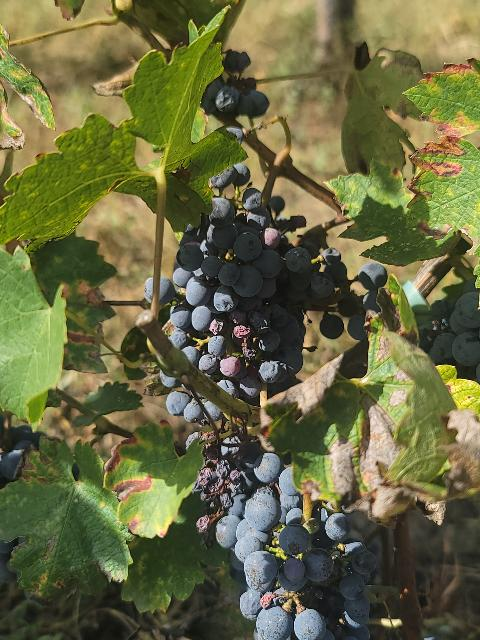grapes: (161, 164, 388, 404), (234, 506, 378, 640)
